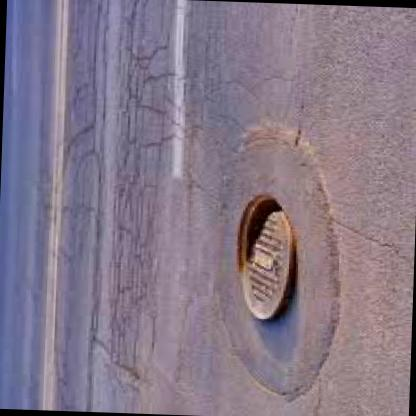manholes: (202, 171, 324, 335)
